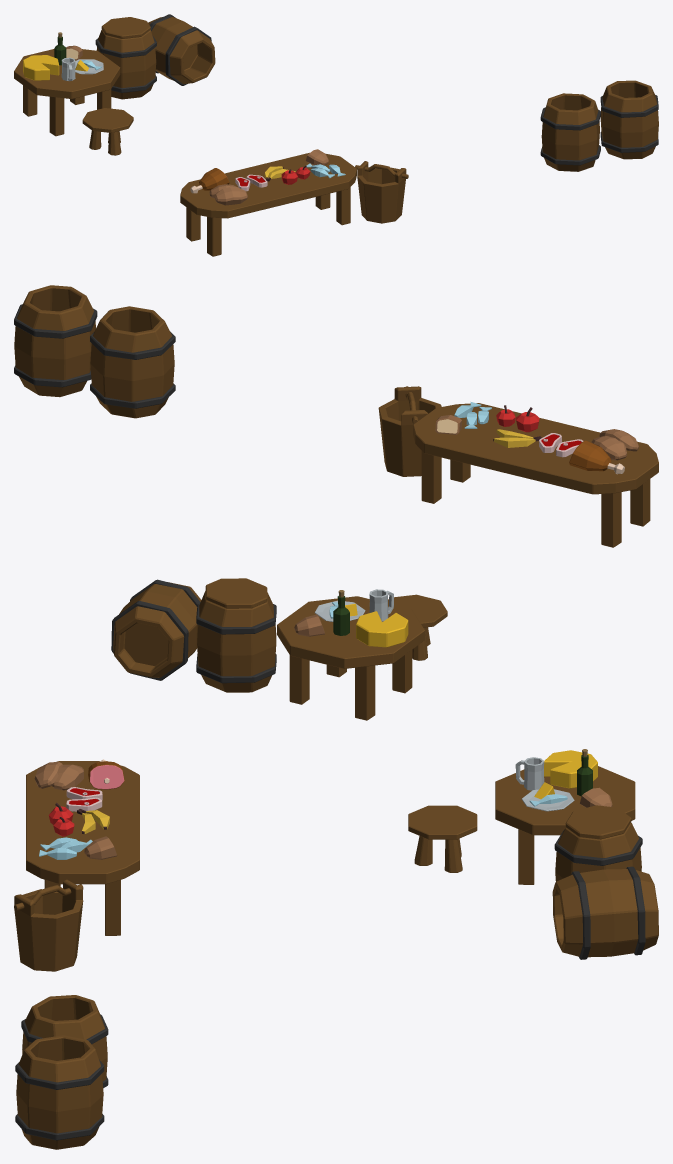
The model's file is RoomItemsGrouped.fbx.
The picture shows the model from 3 angles, top to bottom: view 1: azimuth 30°, elevation 25°; view 2: azimuth 150°, elevation 25°; view 3: azimuth 270°, elevation 25°; orthographic projection. The views are drawn at different scales.
Parts seen in each view (by area): view 1: TableSquare, Barrel.001, Barrel.002, TableRound, Barrel, Barrel.003, Bucket.001, Stool, CheeseWheel, Ham.001, Bread.002; view 2: TableSquare, Barrel, Barrel.001, TableRound, Barrel.002, Barrel.003, Bucket.001, CheeseWheel, Stool, Ham.001; view 3: TableSquare, Barrel.002, Barrel.003, Bucket.001, TableRound, Barrel, Barrel.001, Stool, CheeseWheel, Ham.001, Mug, Bread.001.
Part boxes in pixels (x1,y1,x2,y2): TableSquare: (180,152,356,256); Barrel.001: (540,93,600,171); Barrel.002: (600,80,658,159); TableRound: (14,49,120,136); Barrel: (95,17,156,99); Barrel.003: (148,14,215,85); Bucket.001: (355,161,408,223); Stool: (82,108,133,155); CheeseWheel: (23,55,59,80); Ham.001: (190,168,229,193); Bread.002: (214,187,247,205); TableSquare: (413,403,658,547); Barrel: (196,578,276,692); Barrel.001: (90,306,175,418); TableRound: (277,596,424,720); Barrel.002: (14,285,97,397); Barrel.003: (111,579,201,680); Bucket.001: (378,386,441,476); CheeseWheel: (356,611,408,647); Stool: (388,594,447,660); Ham.001: (569,440,624,474); TableSquare: (26,761,139,935); Barrel.002: (15,1035,104,1149); Barrel.003: (552,866,658,959); Bucket.001: (14,879,83,971); TableRound: (495,766,635,884); Barrel: (554,805,642,881); Barrel.001: (21,995,108,1087); Stool: (408,805,477,872); CheeseWheel: (544,750,597,788); Ham.001: (88,759,124,789); Mug: (515,757,544,790); Bread.001: (52,764,83,790).
Size of the model in its own units: 1999 by 331 by 1683.
